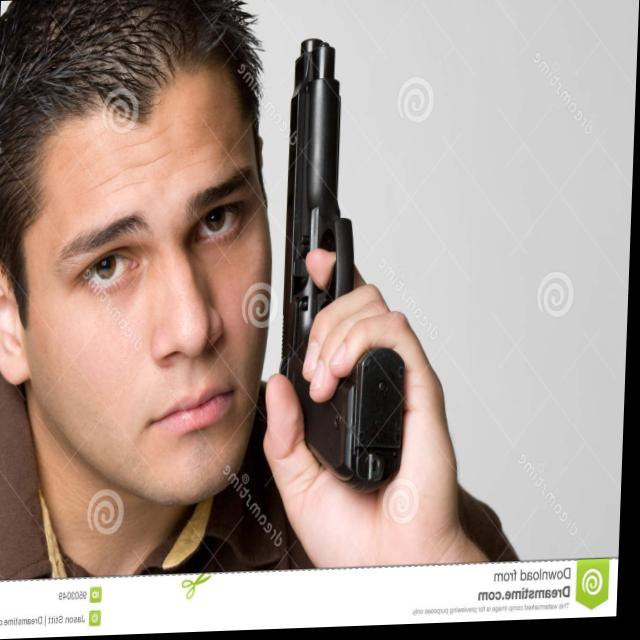handgun: (276, 38, 419, 492)
